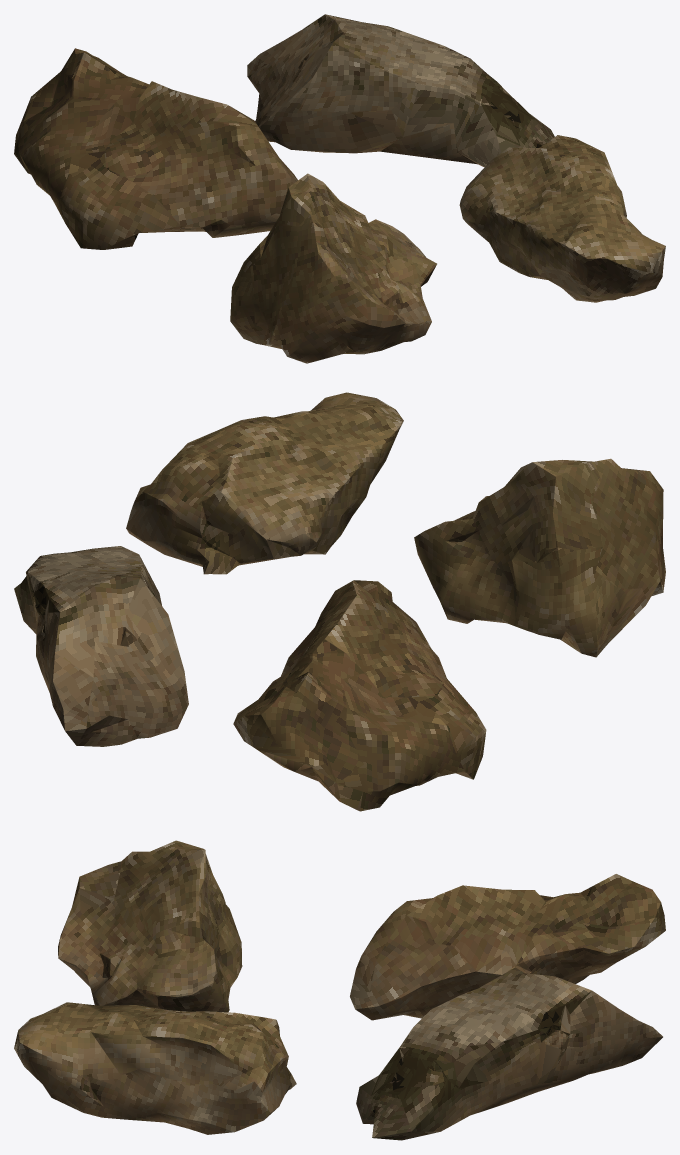
Rendered from rock_moss_set_01.glb.
3 views of the same model, one above another, from view 1: azimuth 30°, elevation 25°; view 2: azimuth 150°, elevation 25°; view 3: azimuth 270°, elevation 25° (orthographic). The views are drawn at different scales.
Visible parts, largest first — view 1: rock_moss_set_01_rock01, rock_moss_set_01_rock02, rock_moss_set_01_rock04, rock_moss_set_01_rock05; view 2: rock_moss_set_01_rock04, rock_moss_set_01_rock01, rock_moss_set_01_rock05, rock_moss_set_01_rock02; view 3: rock_moss_set_01_rock02, rock_moss_set_01_rock05, rock_moss_set_01_rock01, rock_moss_set_01_rock04.
Boxes of the visible parts, bbox=[...] form: rock_moss_set_01_rock01: bbox=[14, 48, 297, 249]; rock_moss_set_01_rock02: bbox=[247, 14, 554, 167]; rock_moss_set_01_rock04: bbox=[230, 173, 436, 363]; rock_moss_set_01_rock05: bbox=[459, 135, 665, 302]; rock_moss_set_01_rock04: bbox=[414, 458, 665, 657]; rock_moss_set_01_rock01: bbox=[233, 580, 486, 811]; rock_moss_set_01_rock05: bbox=[126, 392, 403, 574]; rock_moss_set_01_rock02: bbox=[14, 546, 188, 746]; rock_moss_set_01_rock02: bbox=[356, 967, 662, 1140]; rock_moss_set_01_rock05: bbox=[14, 1002, 296, 1134]; rock_moss_set_01_rock01: bbox=[350, 874, 665, 1020]; rock_moss_set_01_rock04: bbox=[58, 840, 242, 1012].
Size of the model in its own units: 5.31 by 1.77 by 6.93.
Materials: 1 (1 with a texture image).
